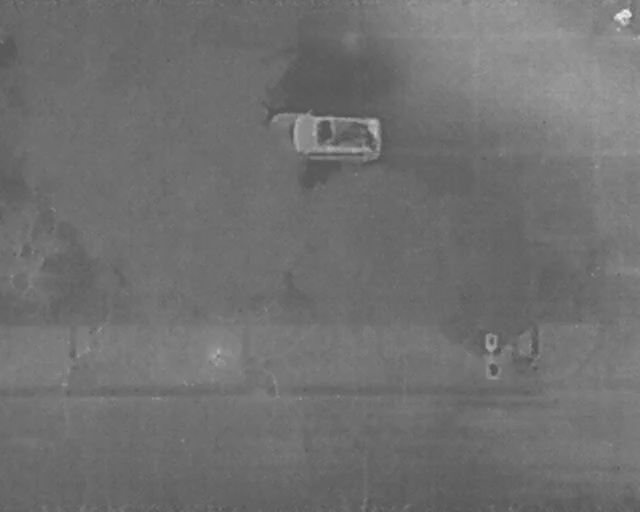Car: (265, 110, 382, 163)
Person: (609, 2, 635, 31)
